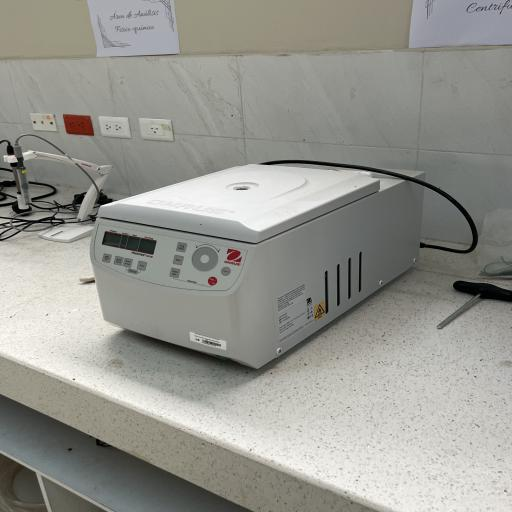Centrifuga_Ohaus_Frontier: (85, 156, 464, 378)
